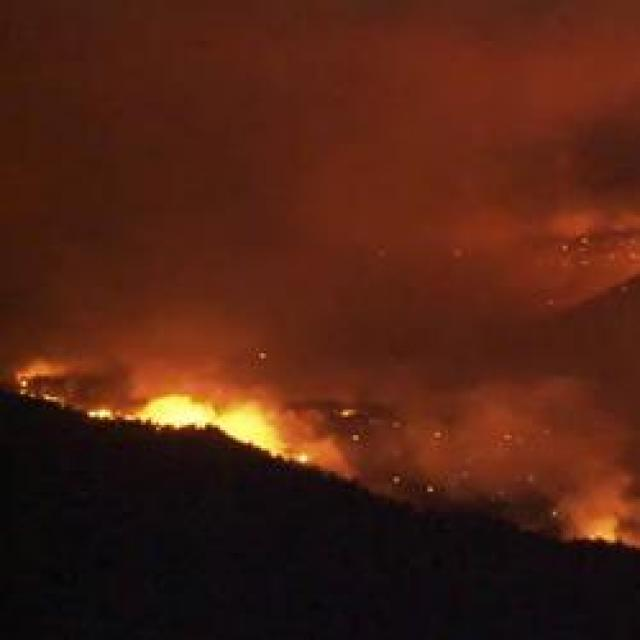fire: (88, 390, 320, 472), (575, 510, 632, 546)
